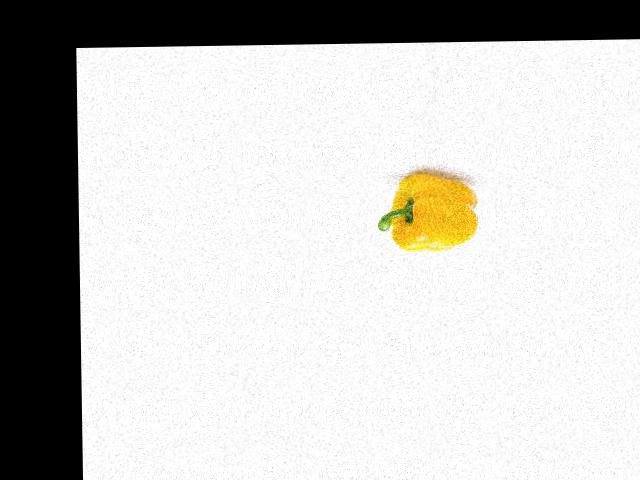bell_pepper: (368, 172, 481, 256)
